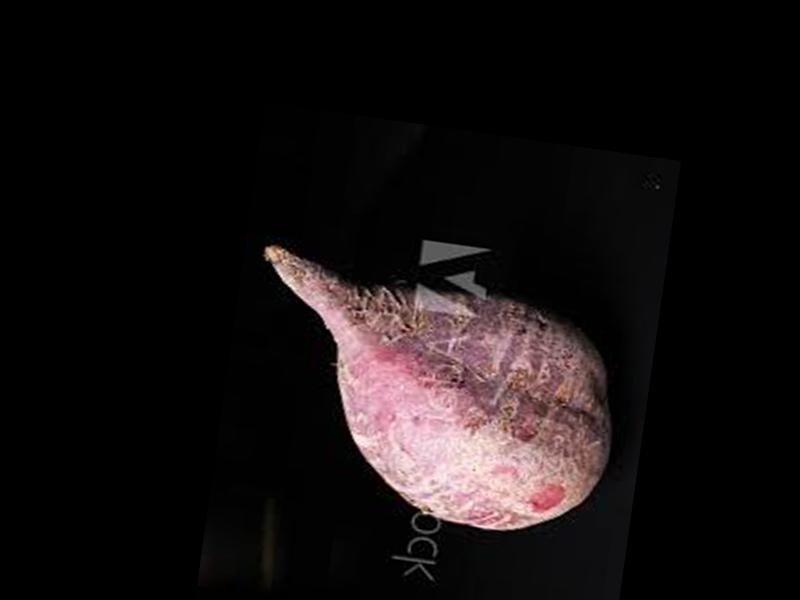Beet: (231, 246, 627, 545)
